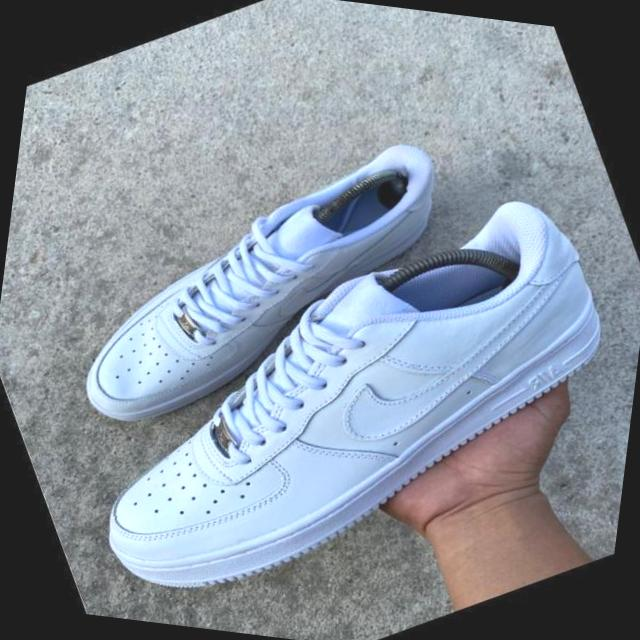nike_original_airforce: (13, 127, 640, 640), (21, 89, 504, 484)
